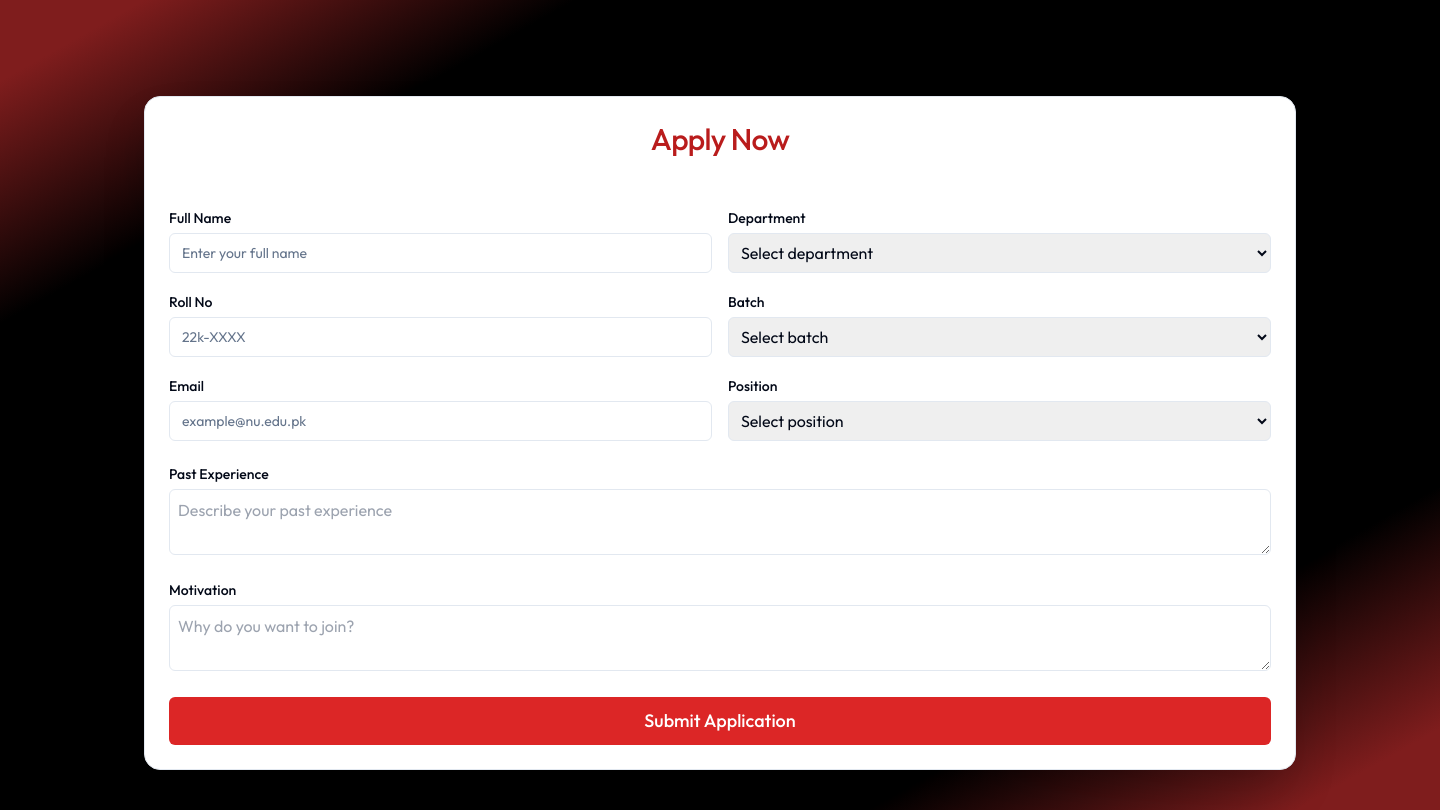
Test: Team Form Validation › should show error for invalid roll number format
Type "invalid" into the field with placeholder "22k-XXXX" at (440, 337), box [169,317,712,357]
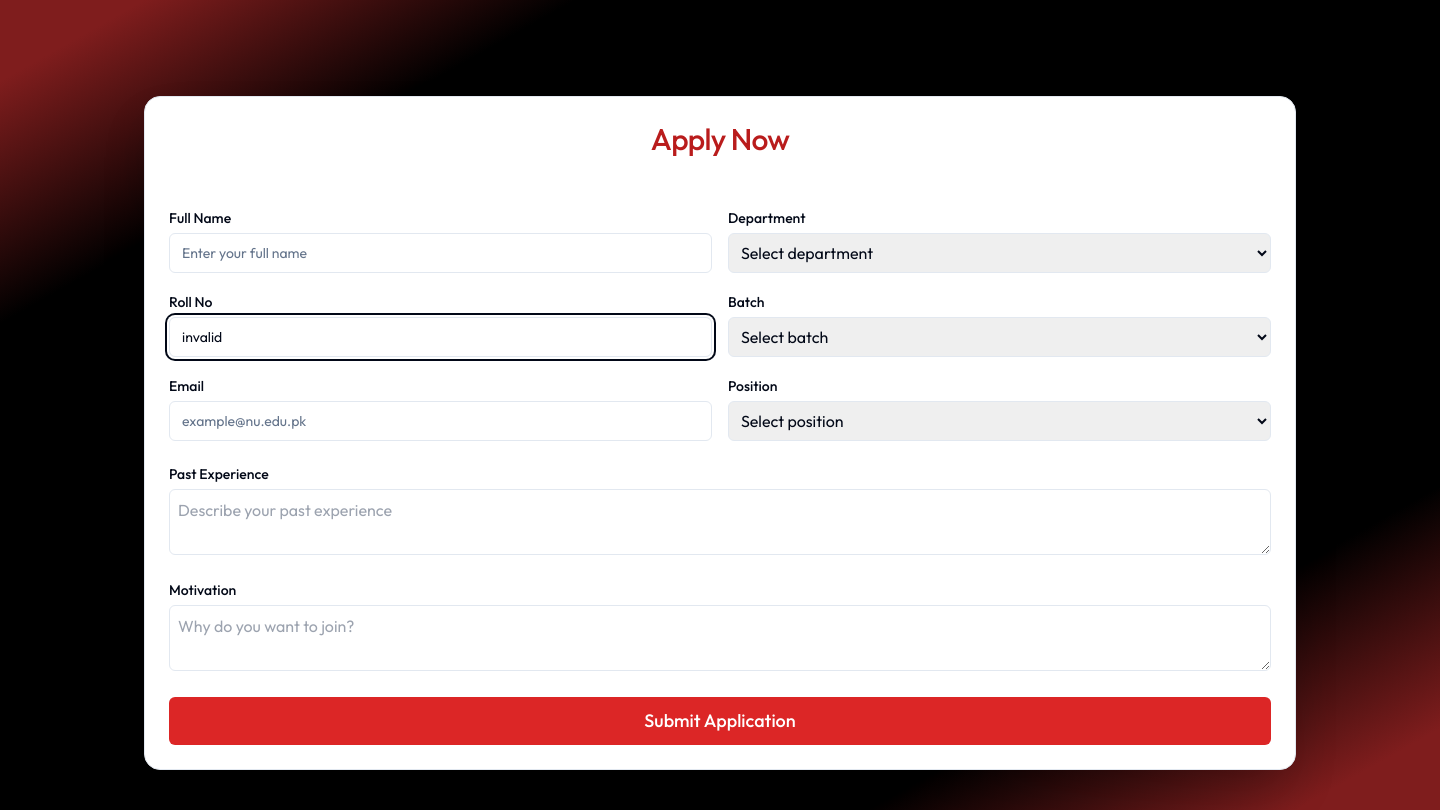
Click the button "Submit Application" at (720, 721), box [169,697,1271,745]
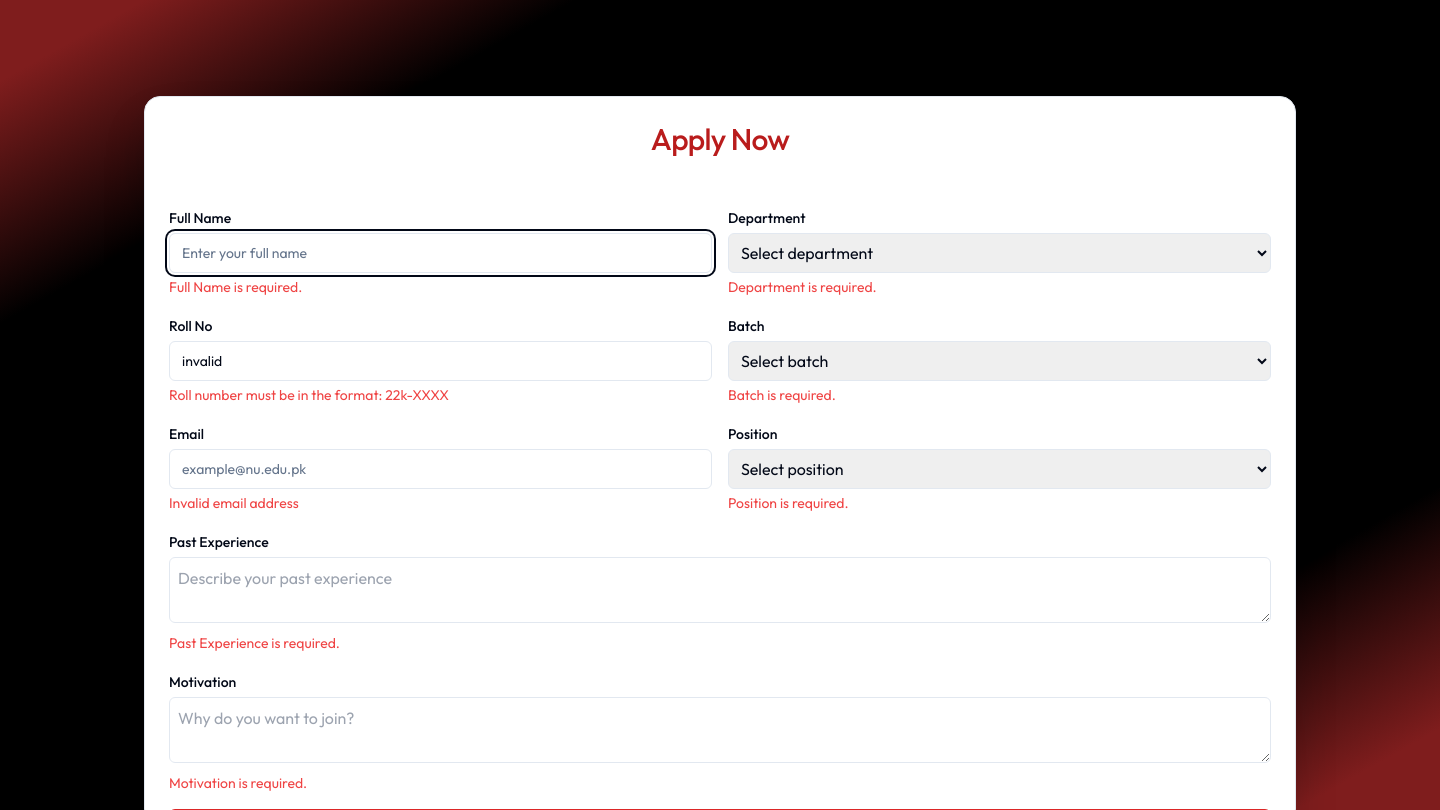
Check: the text "Roll number must be in the format: 22k-XXXX" is shown, box [169,386,449,404]
